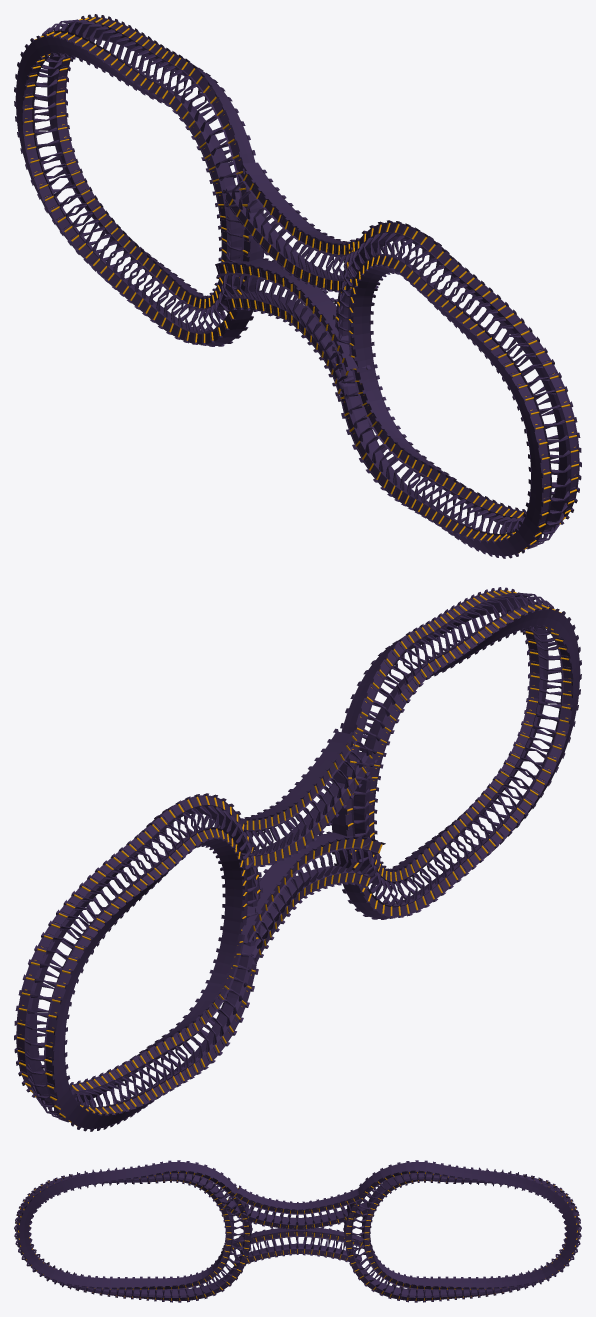
Rendered from butterfly_4.fbx.
The picture shows the model from 3 angles, top to bottom: view 1: azimuth 30°, elevation 25°; view 2: azimuth 150°, elevation 25°; view 3: azimuth 270°, elevation 25°; orthographic projection. The views are drawn at different scales.
Parts seen in each view (by area): view 1: b4rd; view 2: b4rd; view 3: b4rd.
Part boxes in pixels (x1,y1,x2,y2): b4rd: [14, 14, 581, 558]; b4rd: [14, 587, 581, 1131]; b4rd: [14, 1160, 581, 1302].
Size of the model in its own units: 178 by 912 by 3243.
